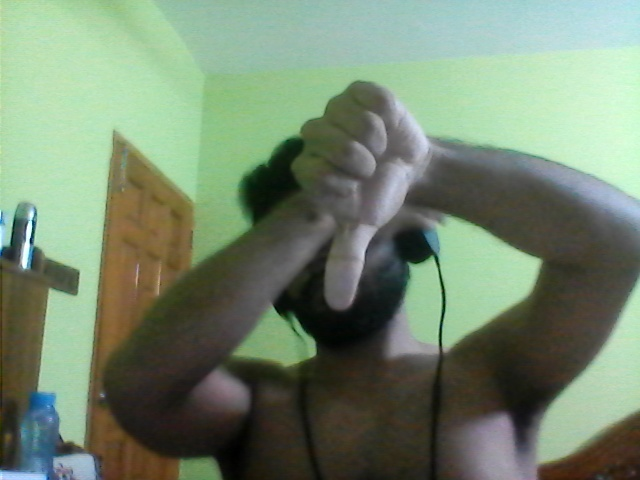No: (282, 85, 430, 314)
